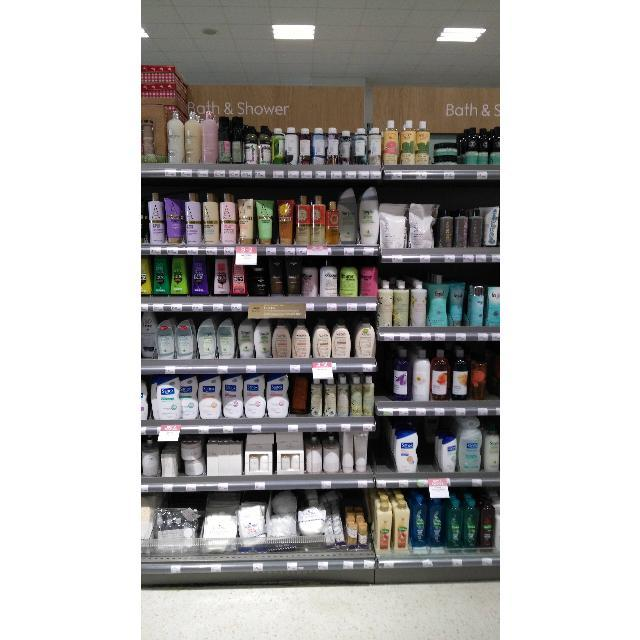empty: (376, 342, 392, 402), (418, 416, 434, 472), (376, 417, 390, 473)
front: (288, 412, 308, 418)
